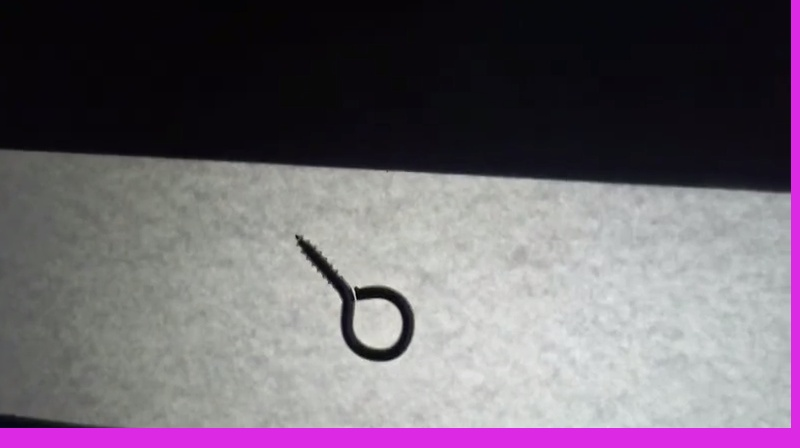O001: (289, 231, 418, 363)
